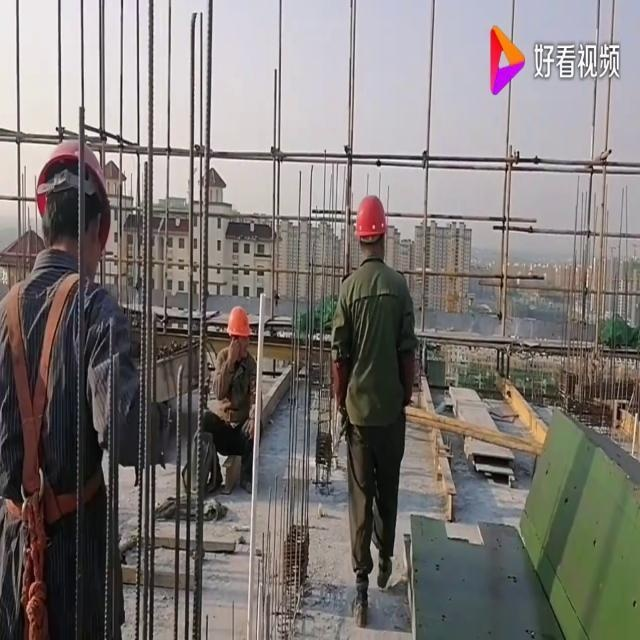Arnes_seguridad: (0, 254, 110, 550)
